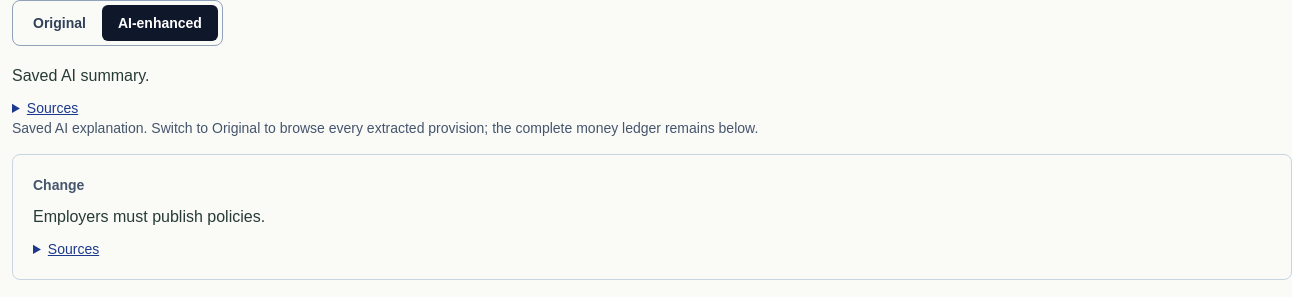
unified reader › shows a compatible saved older AI version without requiring regeneration
Check: the text "Saved AI summary." is shown, box x1=12 y1=67 x2=150 y2=84
Check: the text "Employers must publish policies." is shown, box x1=33 y1=208 x2=265 y2=225
Click the button "Original".
click(59, 23)  # box x1=17 y1=5 x2=102 y2=41
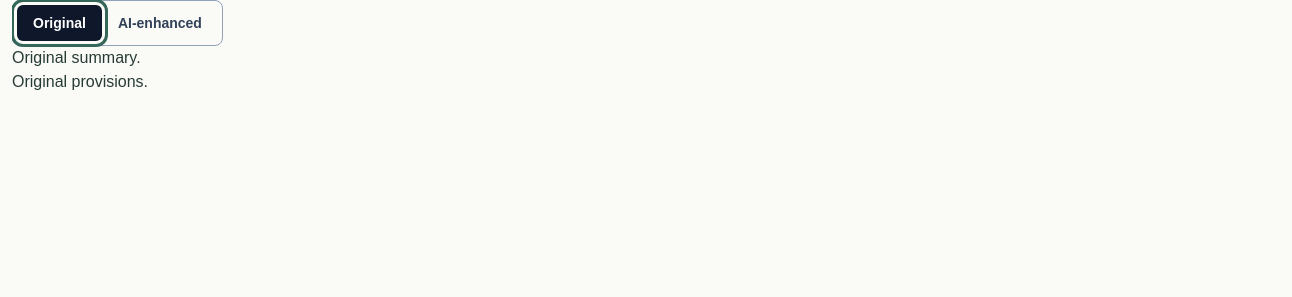
Check: the text "Original provisions." is shown, box x1=12 y1=73 x2=148 y2=90
Check: the text "Saved AI summary." is gone
